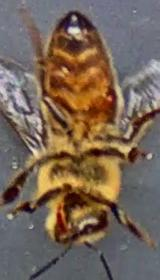varroa_mite: (91, 84, 122, 116)
